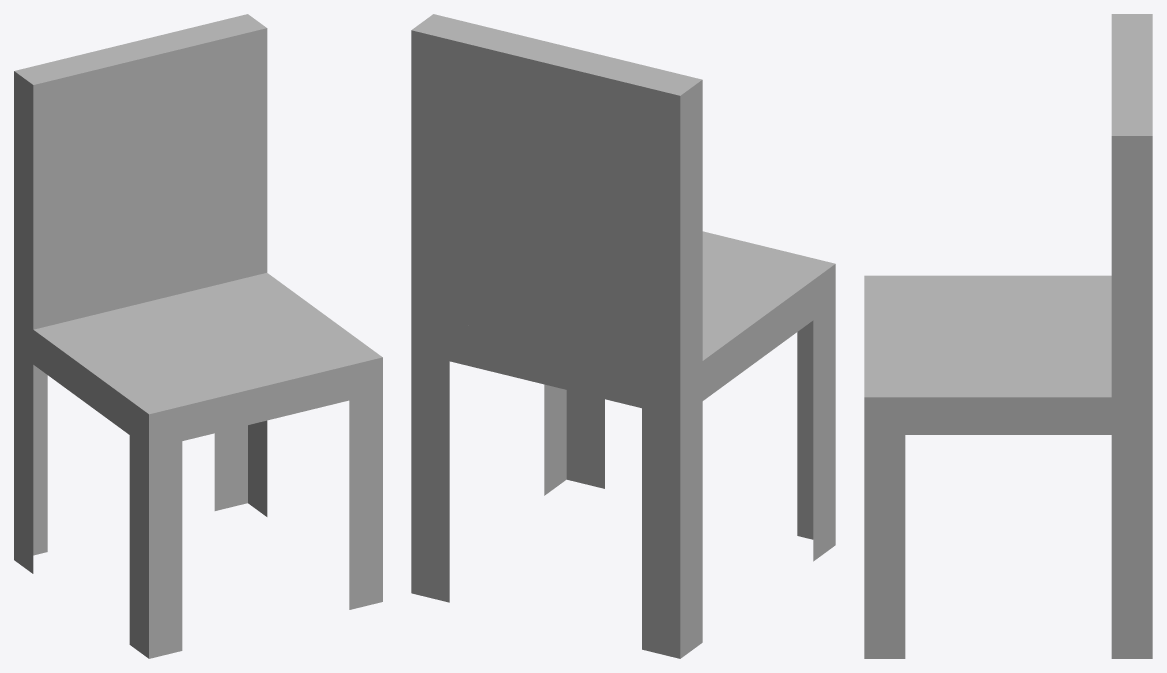
The model's file is chair.fbx.
The picture shows the model from 3 angles, left to right: view 1: azimuth 30°, elevation 25°; view 2: azimuth 150°, elevation 25°; view 3: azimuth 270°, elevation 25°; orthographic projection. The views are drawn at different scales.
Visible parts, largest first — view 1: legs, back; view 2: back, legs; view 3: legs, back.
Part boxes in pixels (box(x1,y1,x2,y2)): legs: box(14, 273, 382, 658); back: box(14, 14, 267, 329); back: box(411, 14, 702, 377); legs: box(411, 231, 835, 658); legs: box(864, 275, 1152, 658); back: box(1111, 14, 1152, 397).
Size of the model in its own units: 87.5 by 175 by 87.5.
